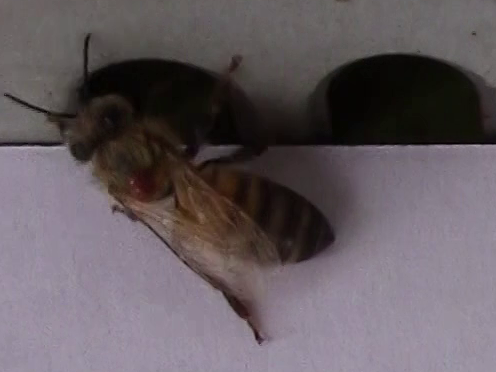Varroa destructor: (126, 168, 163, 202)
